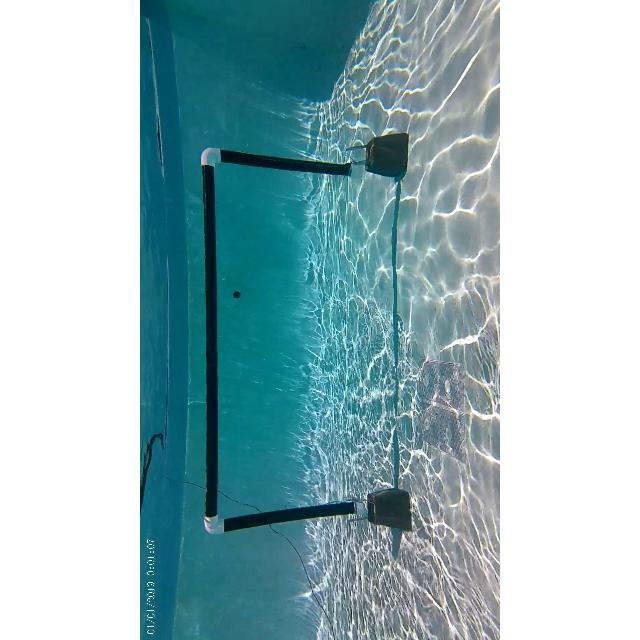prequal gate: (202, 147, 366, 537)
prequal gate leg l: (199, 496, 419, 534)
prequal gate leg r: (201, 136, 403, 176)
